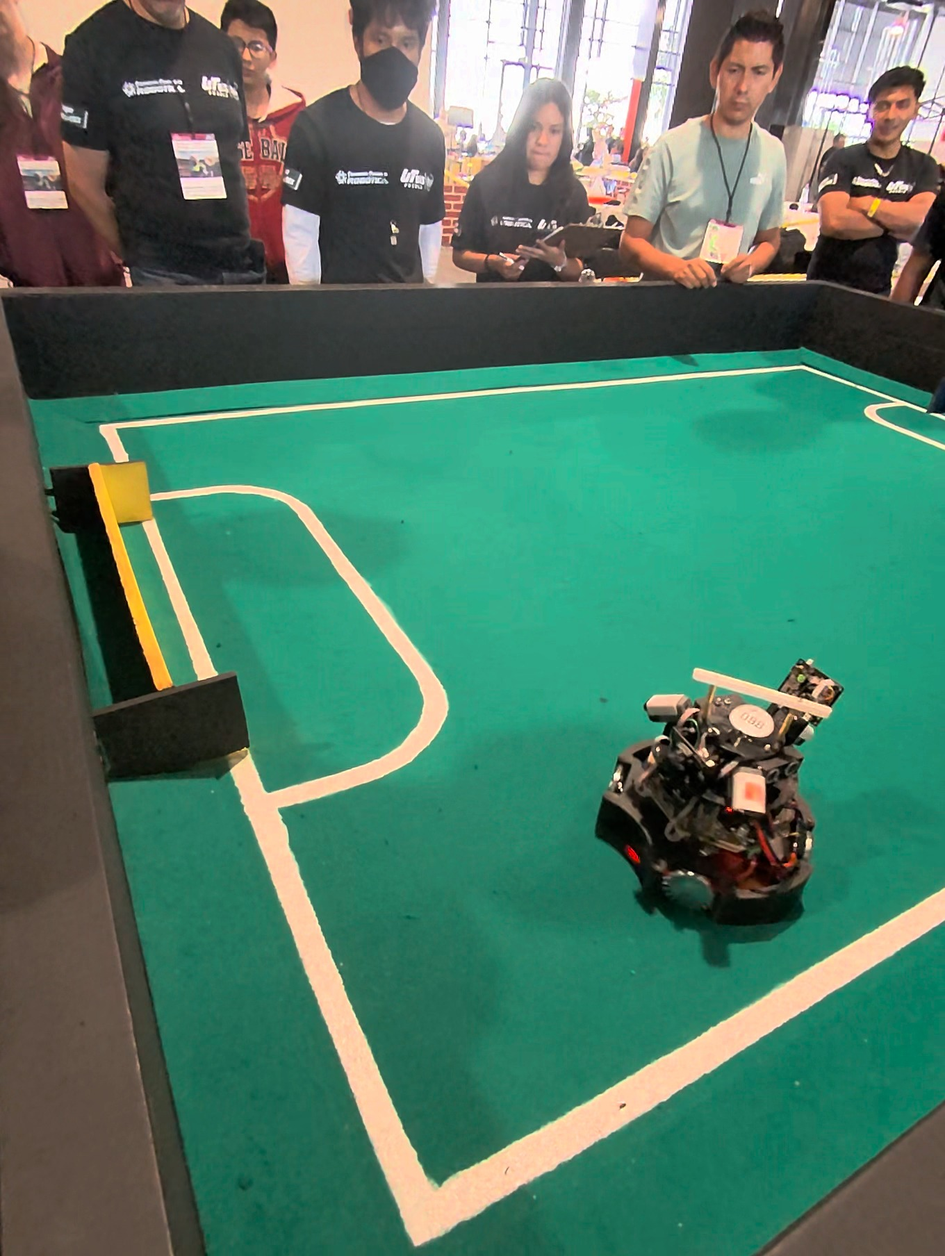Robot: (581, 637, 833, 955)
